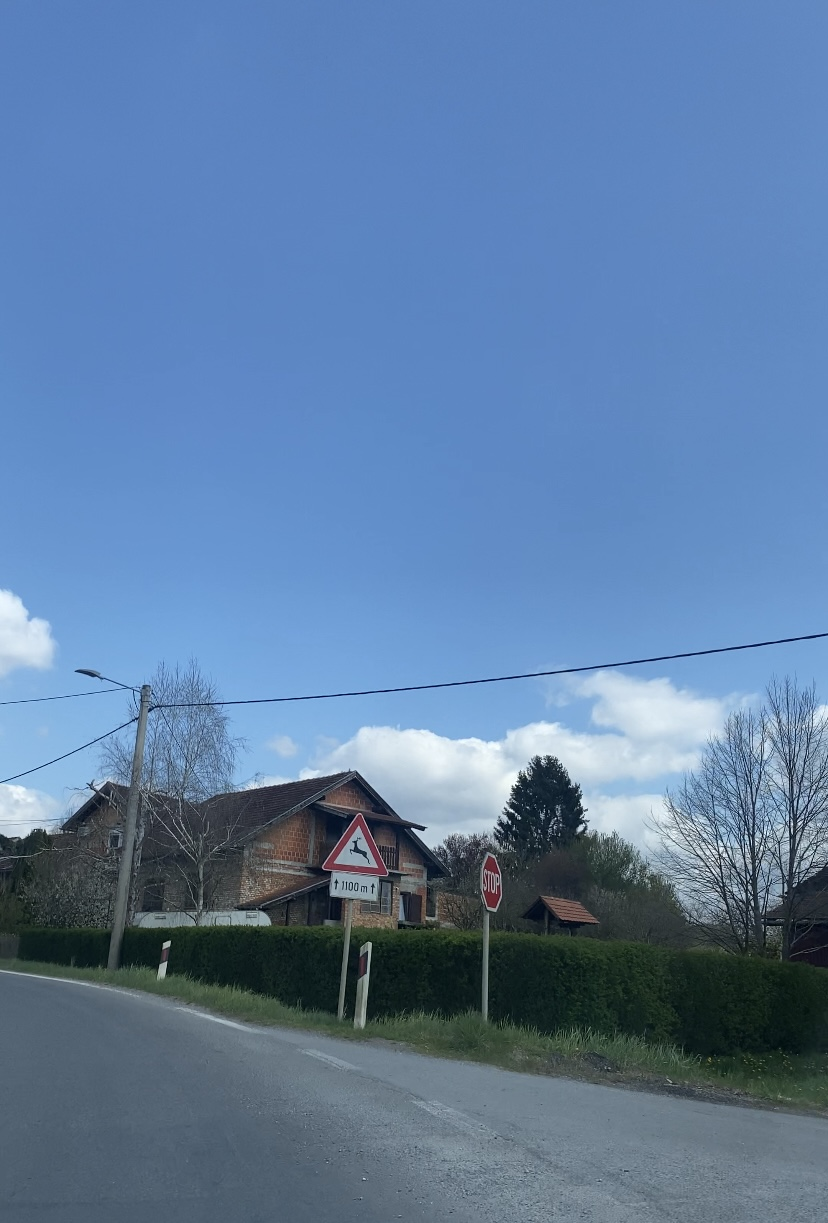Divljač na cesti: (321, 813, 389, 877)
Obavezno zaustavljanje: (480, 852, 502, 912)
